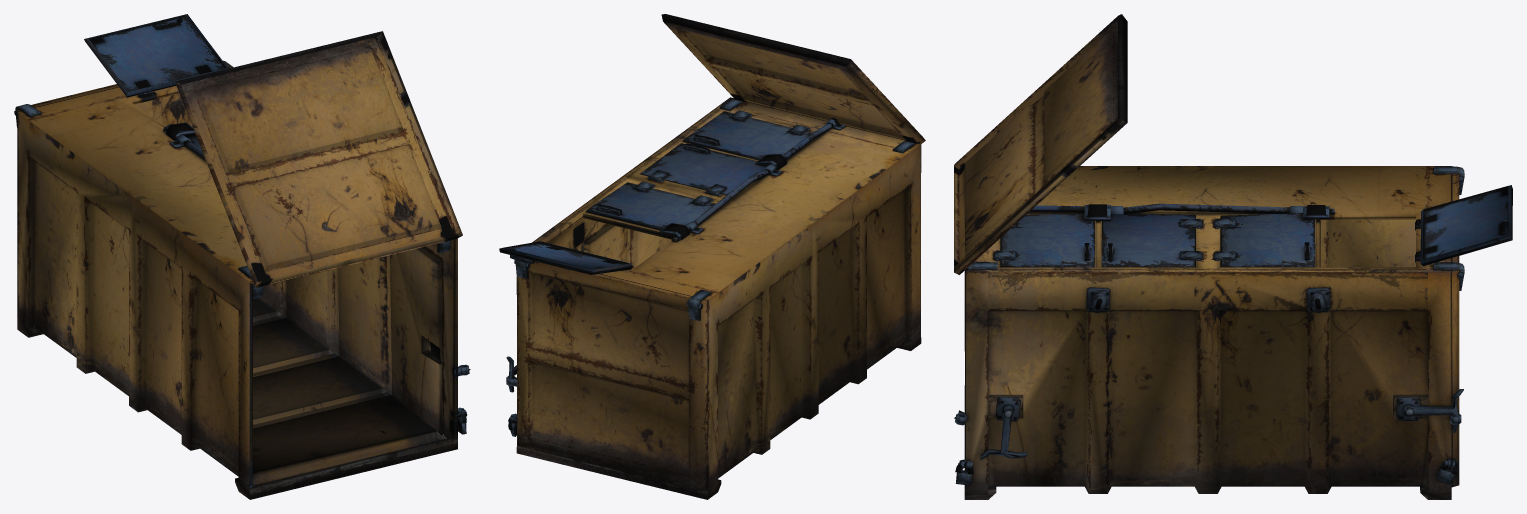
Rendered from Dumpster.obj.
3 renders of one model, left to right at view 1: azimuth 30°, elevation 25°; view 2: azimuth 150°, elevation 25°; view 3: azimuth 270°, elevation 25°, orthographic. The views are drawn at different scales.
Size of the model in its own units: 4.95 by 7.9 by 10.53.
Materials: 1 (1 with a texture image).
